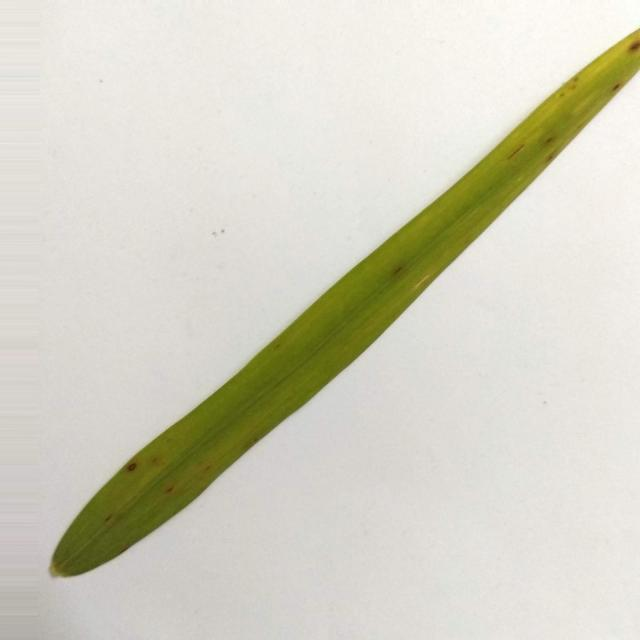Brown_Spot: (508, 144, 524, 158), (612, 80, 627, 93), (629, 40, 640, 51), (150, 454, 160, 464), (204, 465, 215, 473), (546, 154, 558, 161), (128, 462, 136, 471), (164, 486, 172, 494), (545, 136, 554, 142), (104, 515, 111, 522), (396, 266, 402, 272)
